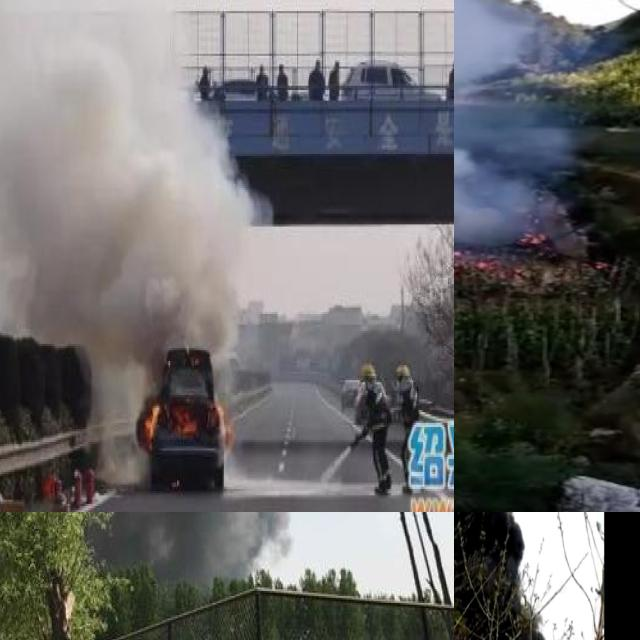fire: (138, 387, 232, 444), (454, 232, 553, 275), (515, 227, 551, 246)
smoke: (0, 0, 263, 369), (454, 0, 574, 254), (0, 512, 295, 577), (454, 512, 568, 640)
